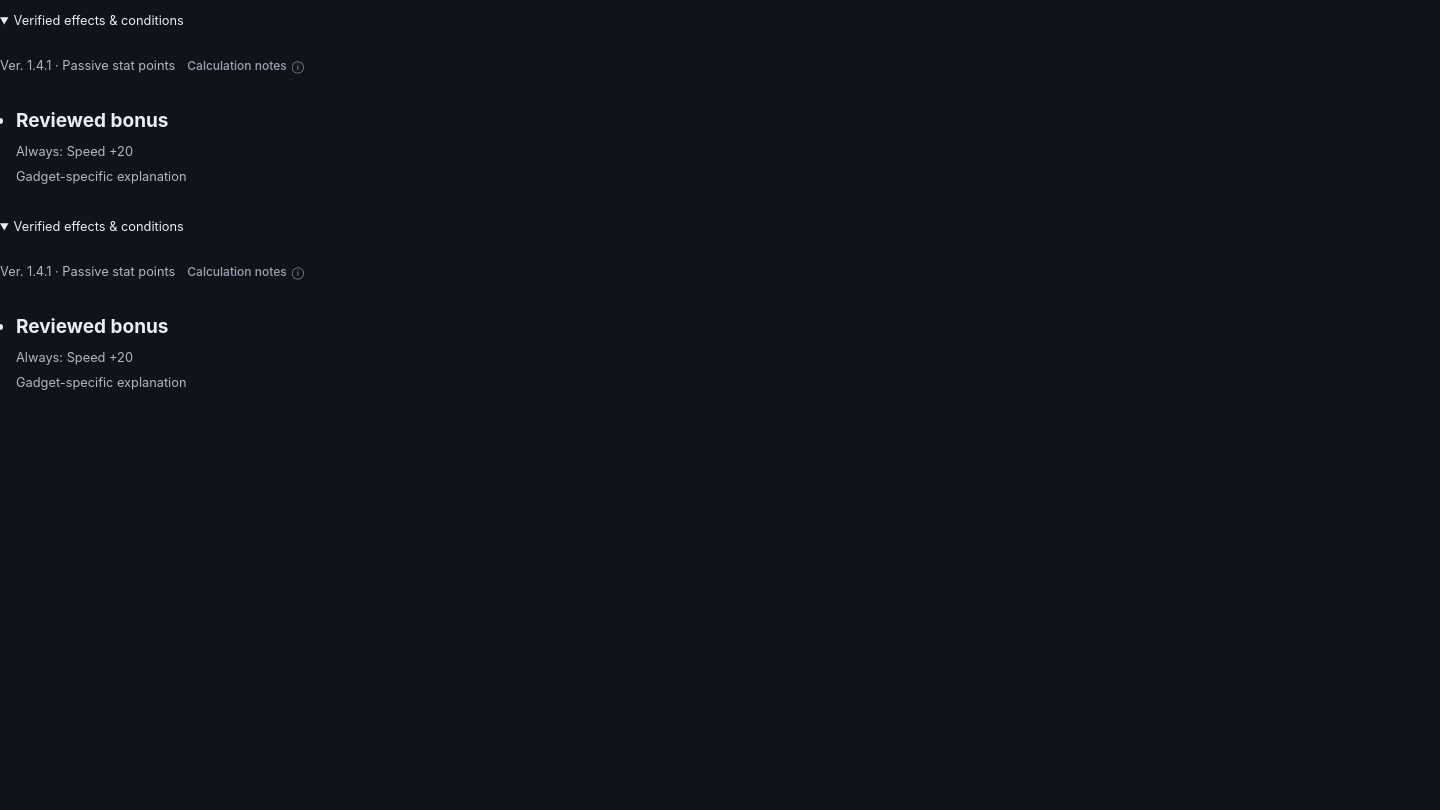
it: removes shared prose from card bodies while retaining each effect and showing notes on demand
This screenshot has width=1440, height=810.
Expected: the element that starts with "Verified effects & conditions" shows "Reviewed bonus", [16,109,168,132]
Expected: the element that starts with "Verified effects & conditions" shows "Always: Speed +20", [0,13,304,184]
Click the 1st button "Calculation notes ⓘ": point(246, 66) [187,44,304,88]
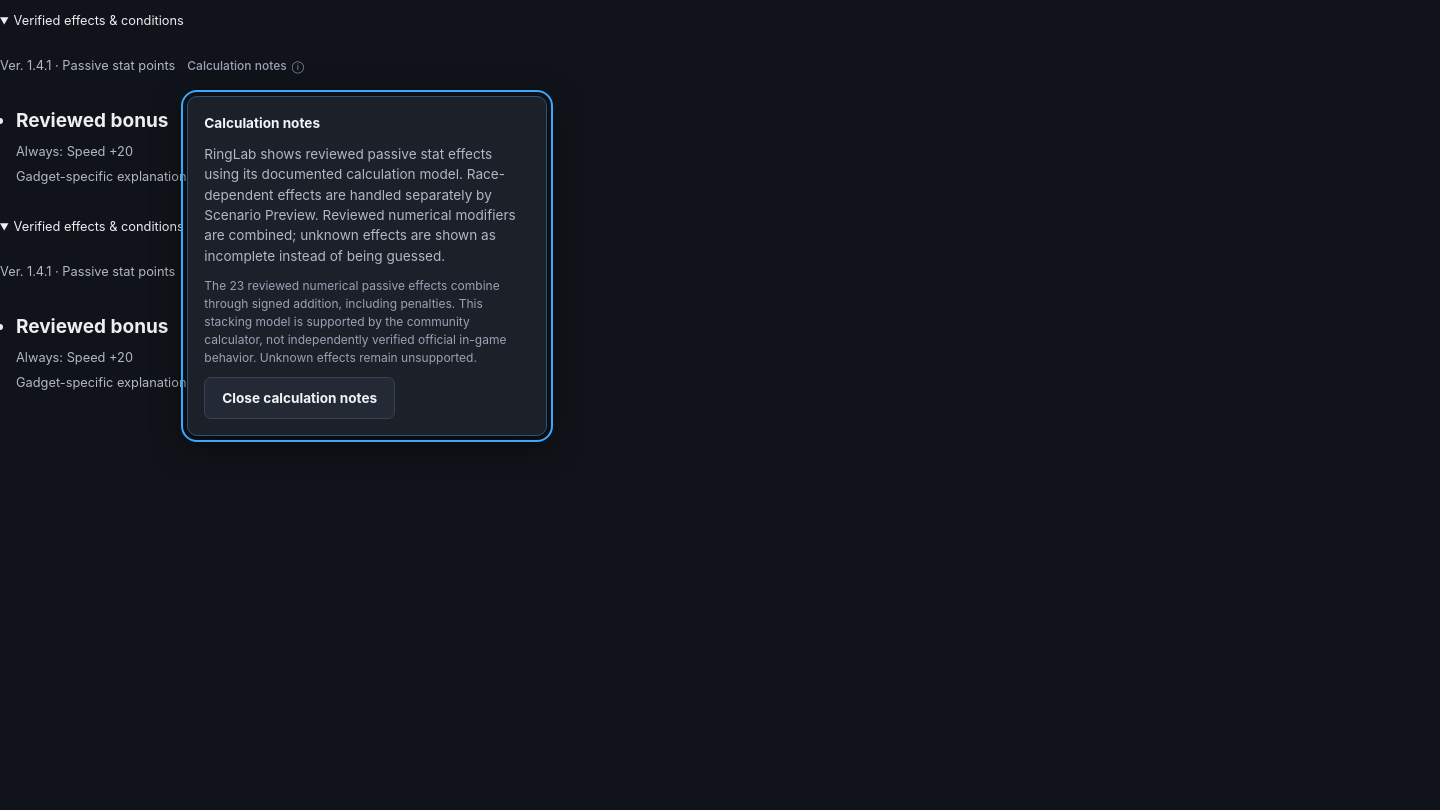
Expected: the text "RingLab shows reviewed passive stat effects" is shown, [204,146,516,264]
Expected: the text "23 reviewed numerical passive effects combine through signed addition" is shown, [204,278,506,364]
